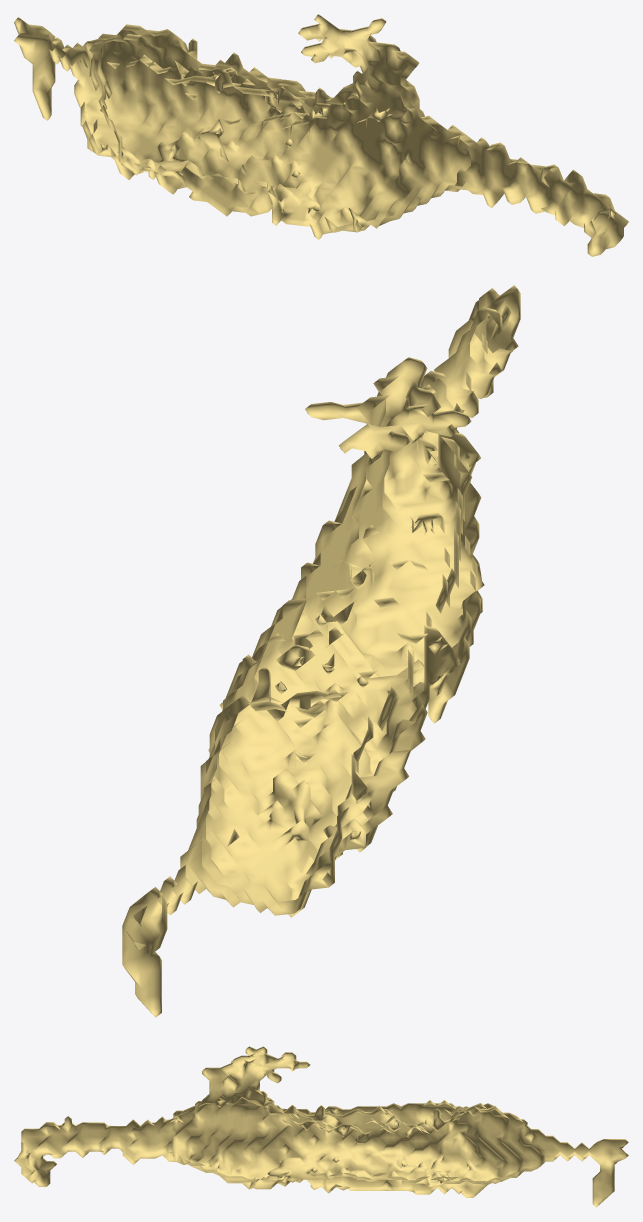
Rendered from osteocyte_101.glb.
3 views of the same model, one above another, from view 1: azimuth 30°, elevation 25°; view 2: azimuth 150°, elevation 25°; view 3: azimuth 270°, elevation 25° (orthographic). The views are drawn at different scales.
Parts seen in each view (by area): view 1: osteocyte_101; view 2: osteocyte_101; view 3: osteocyte_101.
Part boxes in pixels (left/top/right/bottom): osteocyte_101: left=14, top=14, right=628, bottom=256; osteocyte_101: left=122, top=285, right=520, bottom=1017; osteocyte_101: left=14, top=1046, right=628, bottom=1207.
Bounding box in the file's own units: 11.62 × 11.62 × 38.
